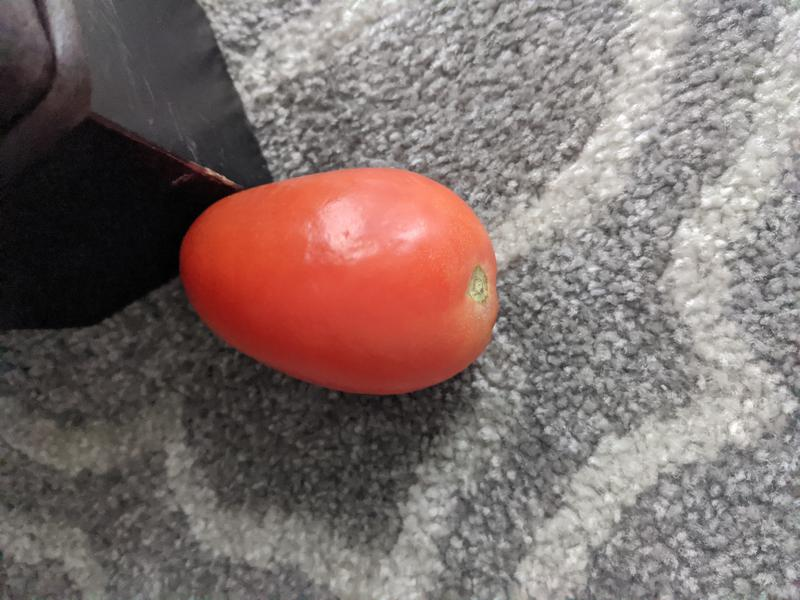tomato: (177, 167, 501, 396)
